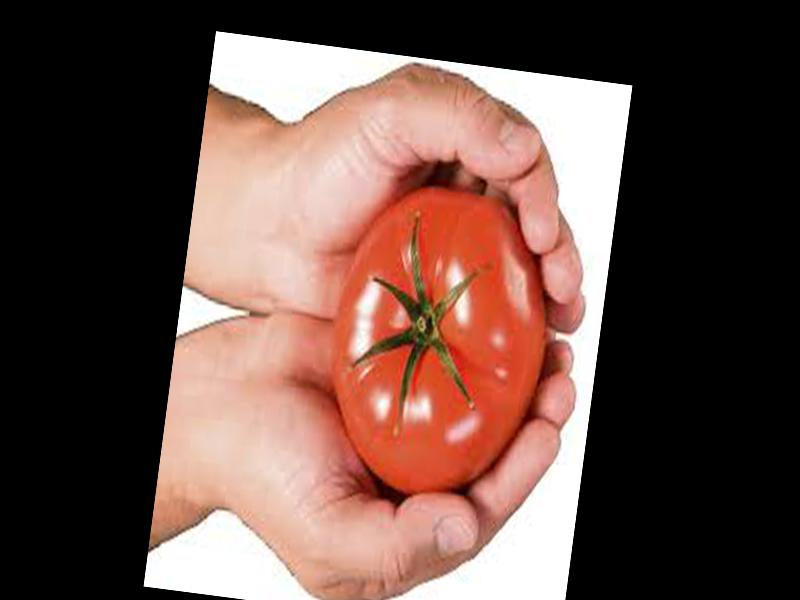Tomato: (317, 174, 561, 509)
